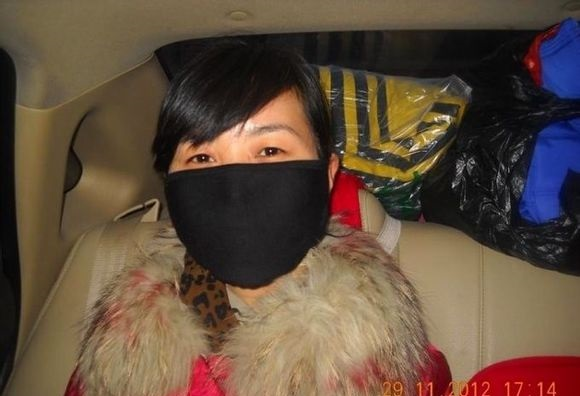face_mask: (163, 89, 324, 275)
